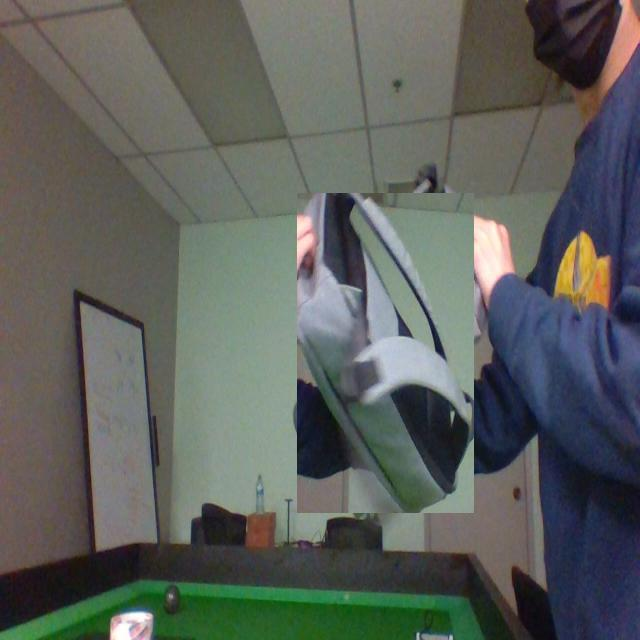Backpacks: (297, 193, 475, 514)
